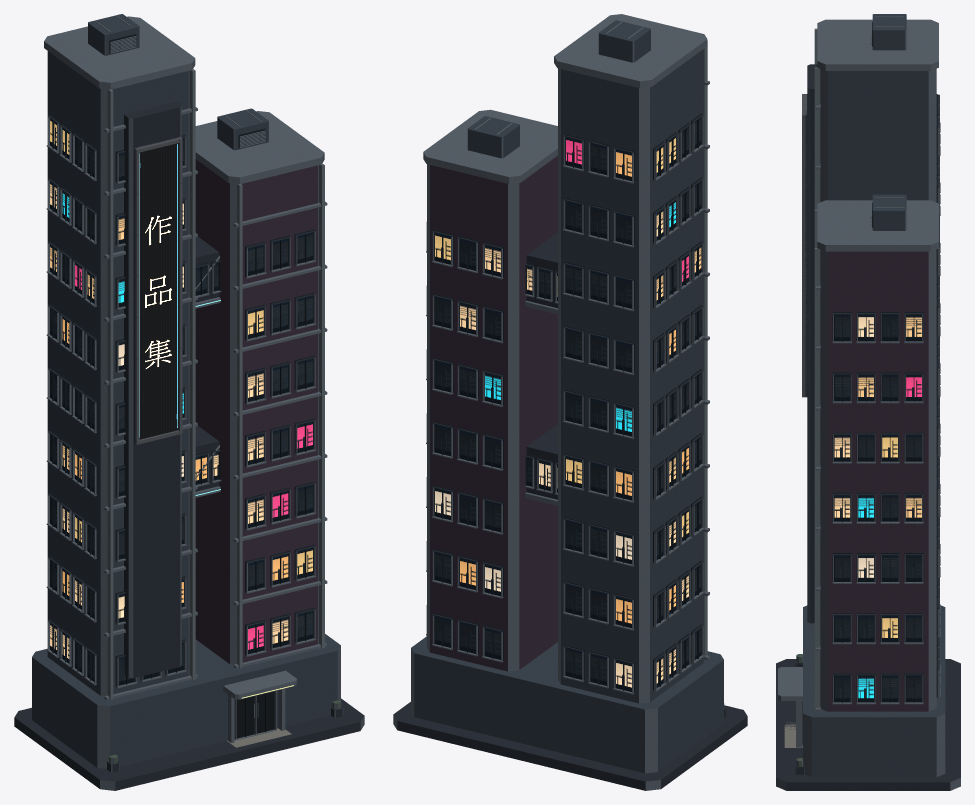
Rendered from work.glb.
3 renders of one model, left to right at view 1: azimuth 30°, elevation 25°; view 2: azimuth 150°, elevation 25°; view 3: azimuth 270°, elevation 25°, orthographic. The views are drawn at different scales.
Visible parts, largest first — view 1: linked_project_headquarters, vertical_led; view 2: linked_project_headquarters; view 3: linked_project_headquarters, vertical_led.
Boxes of the visible parts, x1=… form: linked_project_headquarters: x1=14, y1=14, x2=364, y2=790; vertical_led: x1=134, y1=136, x2=182, y2=444; linked_project_headquarters: x1=393, y1=14, x2=747, y2=790; linked_project_headquarters: x1=776, y1=14, x2=960, y2=790; vertical_led: x1=802, y1=94, x2=807, y2=397.
Bounding box in the file's own units: 18 × 46.14 × 11.4.
Materials: 4 (3 with a texture image).
